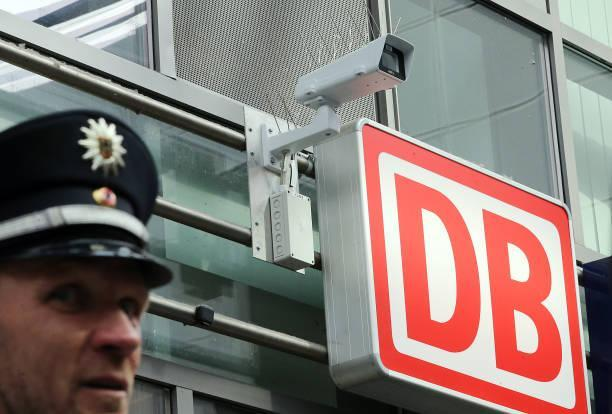camera: (271, 30, 439, 116)
